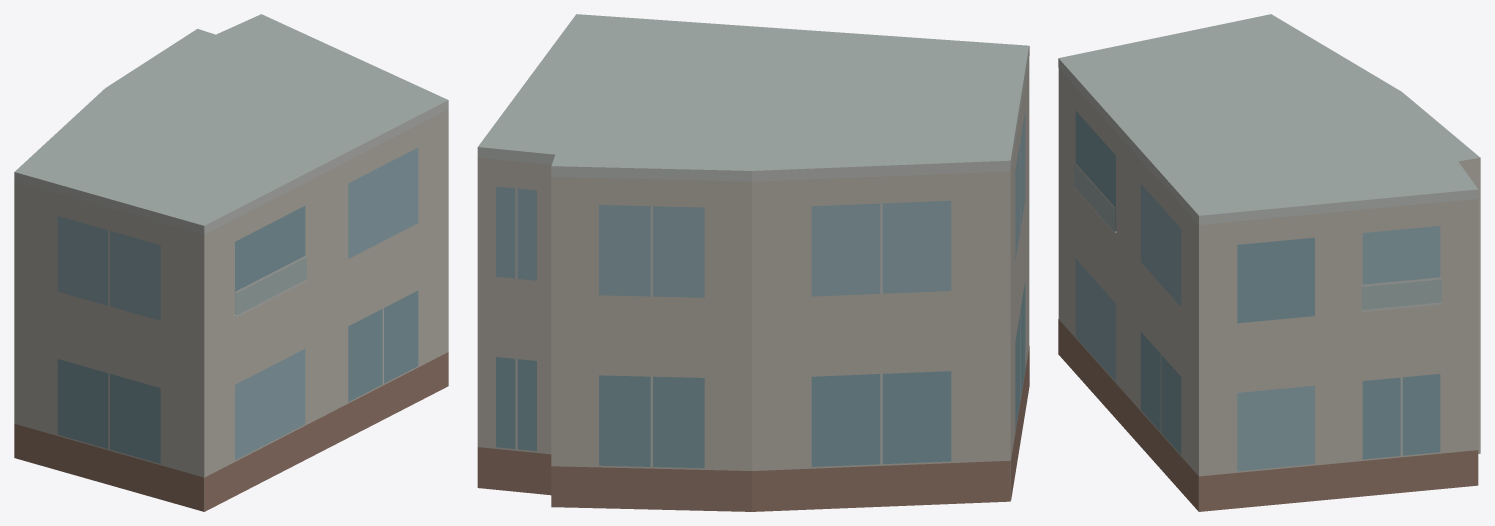
The model's file is survey-upis-32937639.glb.
3 renders of one model, left to right at view 1: azimuth 30°, elevation 25°; view 2: azimuth 150°, elevation 25°; view 3: azimuth 270°, elevation 25°, orthographic. The views are drawn at different scales.
Visible parts, largest first — view 1: survey-upis-32937639.tmp; view 2: survey-upis-32937639.tmp; view 3: survey-upis-32937639.tmp.
Boxes of the visible parts, left/top/right/bottom form: survey-upis-32937639.tmp: left=14, top=14, right=448, bottom=511; survey-upis-32937639.tmp: left=477, top=14, right=1029, bottom=511; survey-upis-32937639.tmp: left=1058, top=14, right=1480, bottom=511.
Size of the model in its own units: 11.41 by 7.8 by 10.09.
